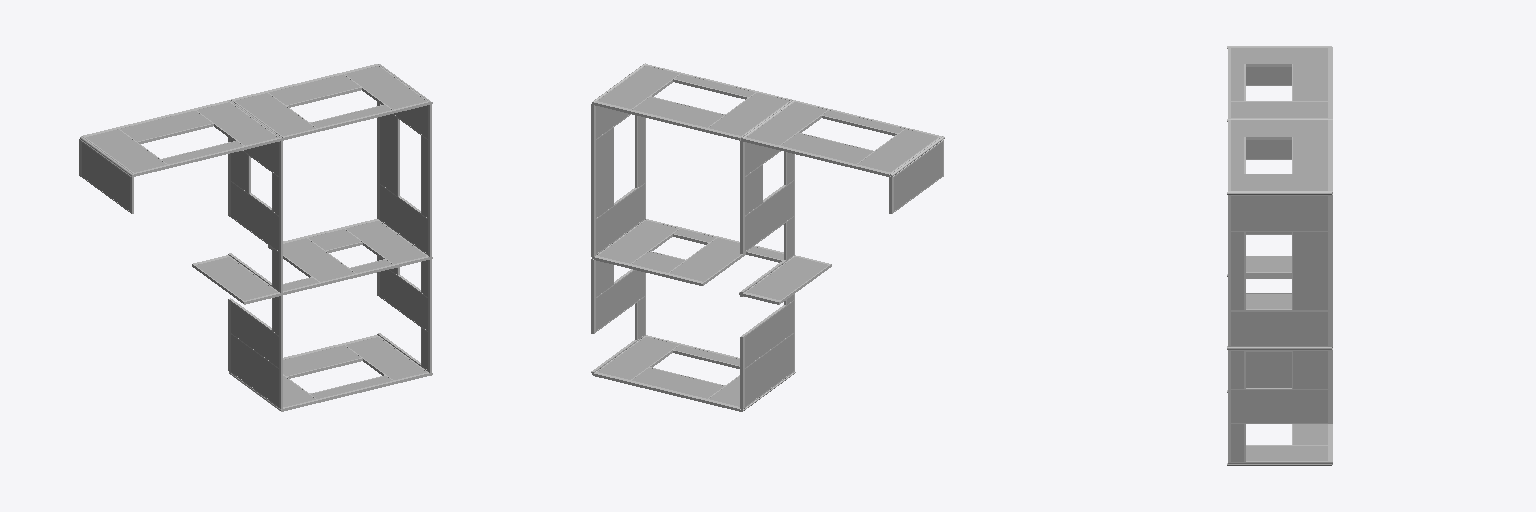
Rendered from appartment.obj.
3 views of the same model, side by side, from view 1: azimuth 30°, elevation 25°; view 2: azimuth 150°, elevation 25°; view 3: azimuth 270°, elevation 25° (orthographic).
Visible parts, largest first — view 1: appartement_Cube.162, appartement_edges_Cube.161, appartement_angles_Cylinder.009; view 2: appartement_Cube.162, appartement_edges_Cube.161, appartement_angles_Cylinder.009; view 3: appartement_Cube.162, appartement_edges_Cube.161, appartement_angles_Cylinder.009.
Part boxes in pixels (bbox=[...]): appartement_Cube.162: bbox=[82, 66, 427, 406]; appartement_edges_Cube.161: bbox=[79, 64, 431, 411]; appartement_angles_Cylinder.009: bbox=[80, 64, 432, 411]; appartement_Cube.162: bbox=[596, 66, 942, 406]; appartement_edges_Cube.161: bbox=[591, 64, 943, 411]; appartement_angles_Cylinder.009: bbox=[592, 63, 944, 411]; appartement_Cube.162: bbox=[1231, 48, 1327, 461]; appartement_edges_Cube.161: bbox=[1228, 47, 1332, 464]; appartement_angles_Cylinder.009: bbox=[1227, 46, 1331, 465].
Size of the model in its own units: 8.27 by 7.2 by 2.52.